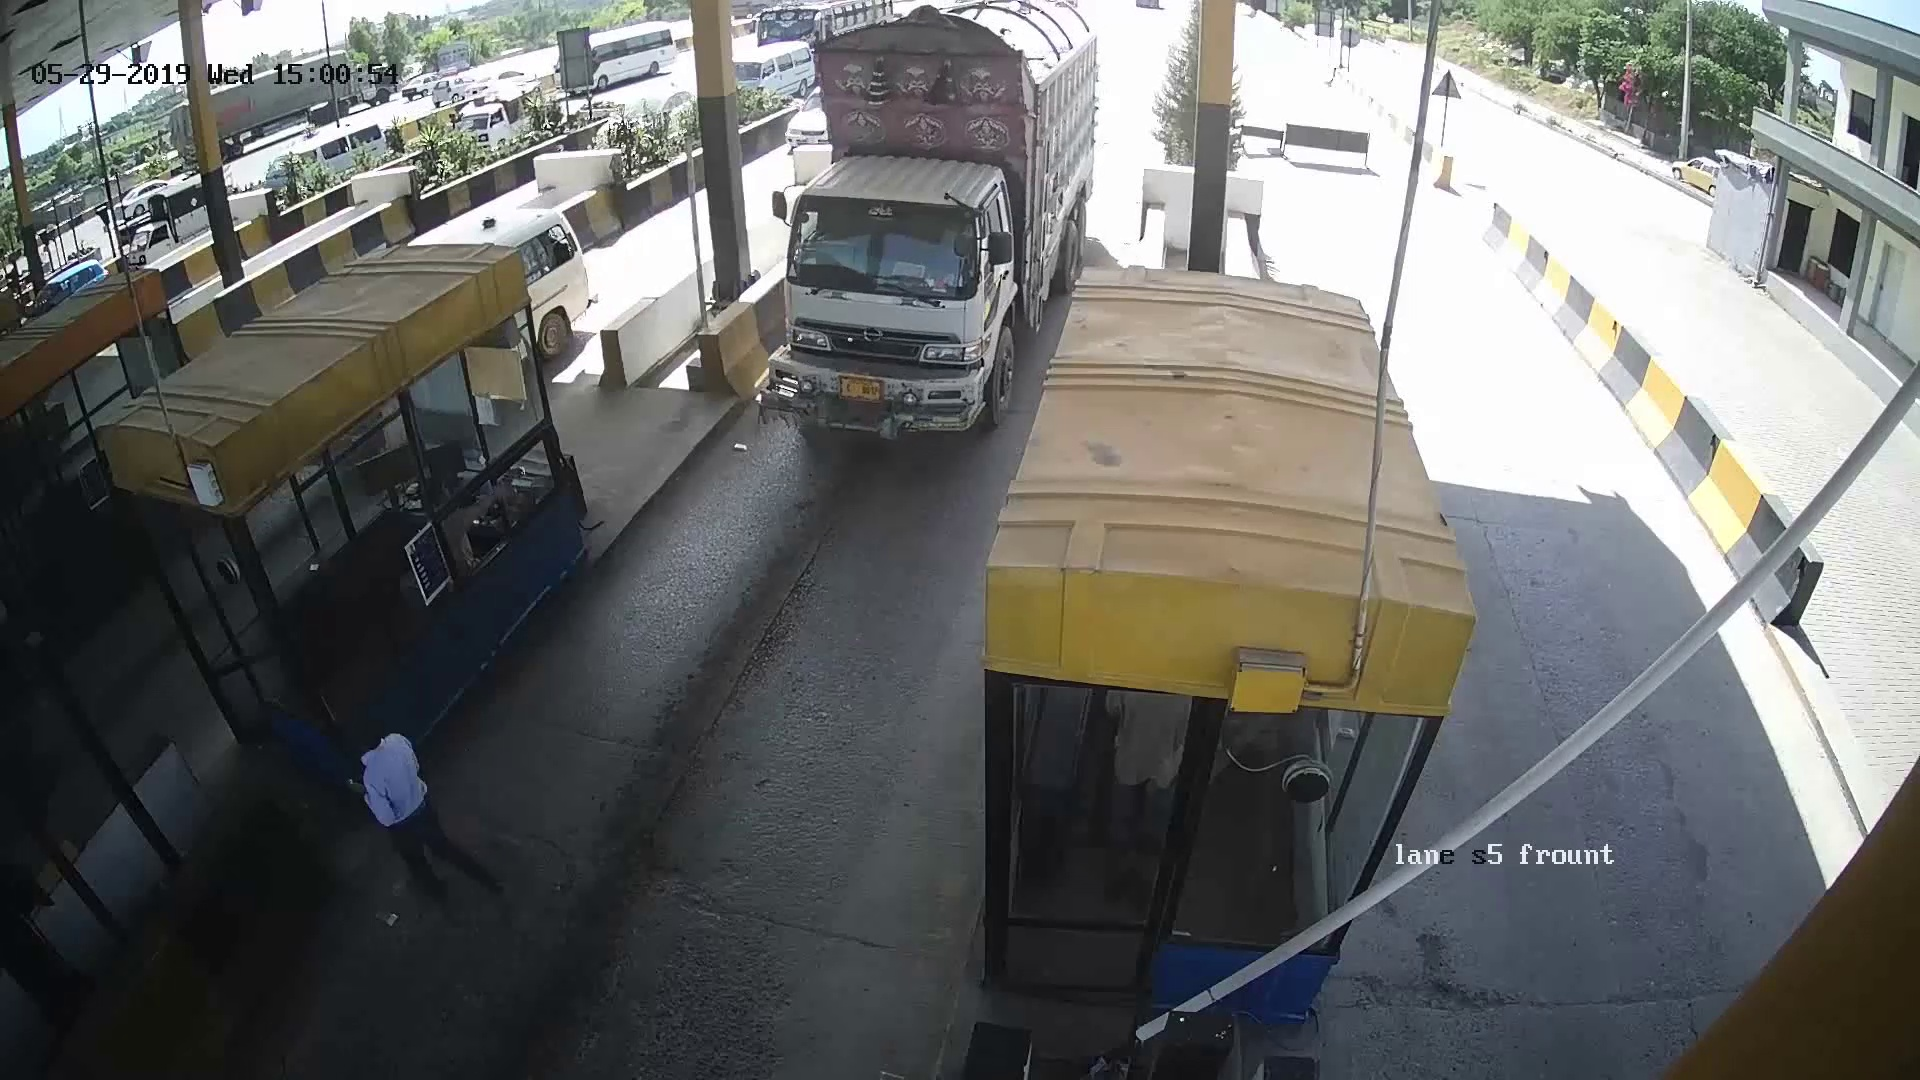truck: (787, 29, 1071, 462)
